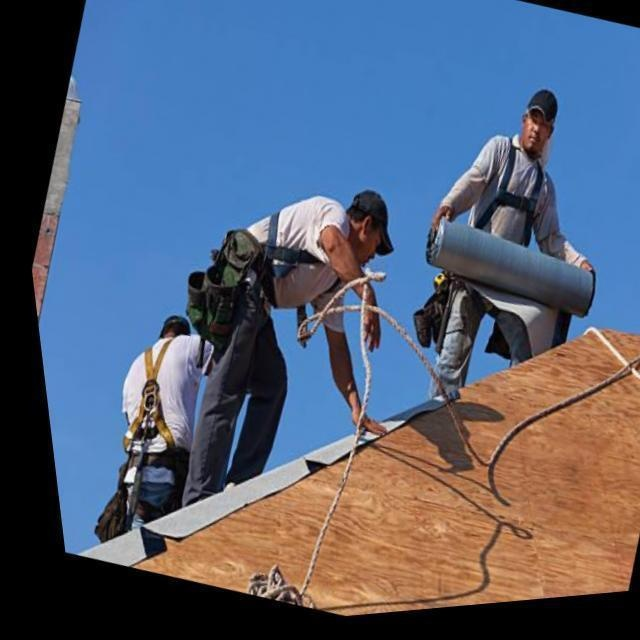Arnes_seguridad: (246, 193, 349, 313), (477, 126, 549, 269), (133, 329, 190, 451)
